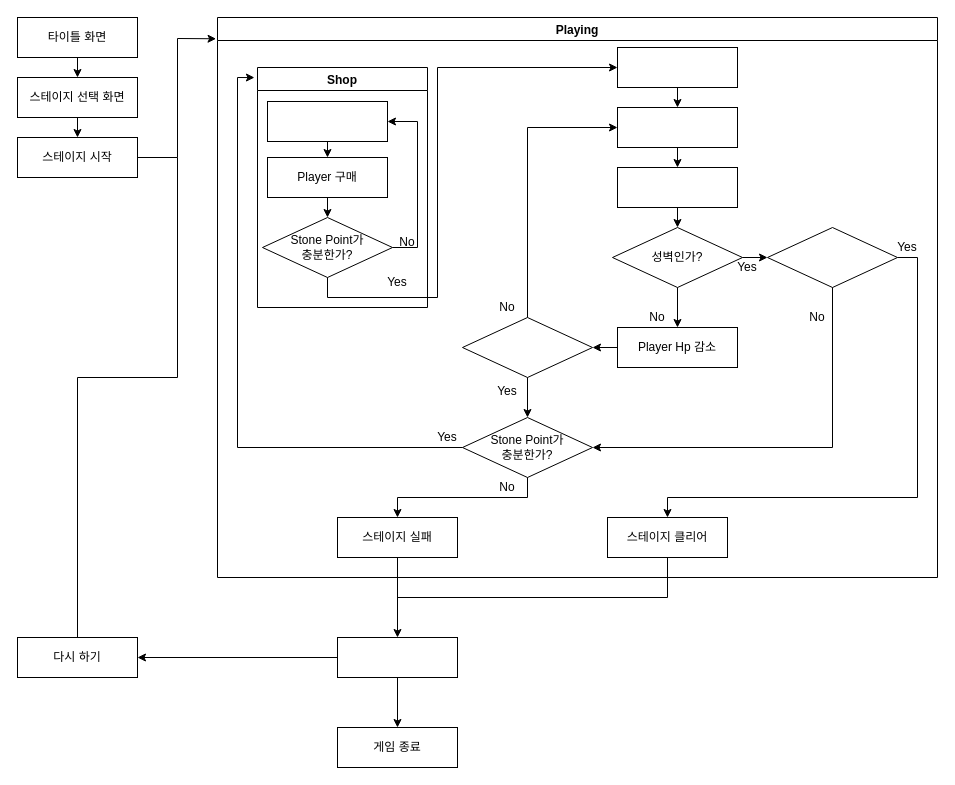
This 955x785 diagram has some shape labels left out. The shapes that lost their labels are listed below. From the top down, each one's centre as x and y in pixels, then its label:
At pixel 677 67: "상점UI Disable 및 선택한 Player 출력".
At pixel 327 121: "상점 UI".
At pixel 677 127: "Playing (Player 조작)".
At pixel 677 187: "구조물과 부딪힘".
At pixel 832 257: "성벽의 체력이 0이하인가?".
At pixel 527 347: "Player Hp가 0이하인가?".
At pixel 397 657: "결과 출력".
